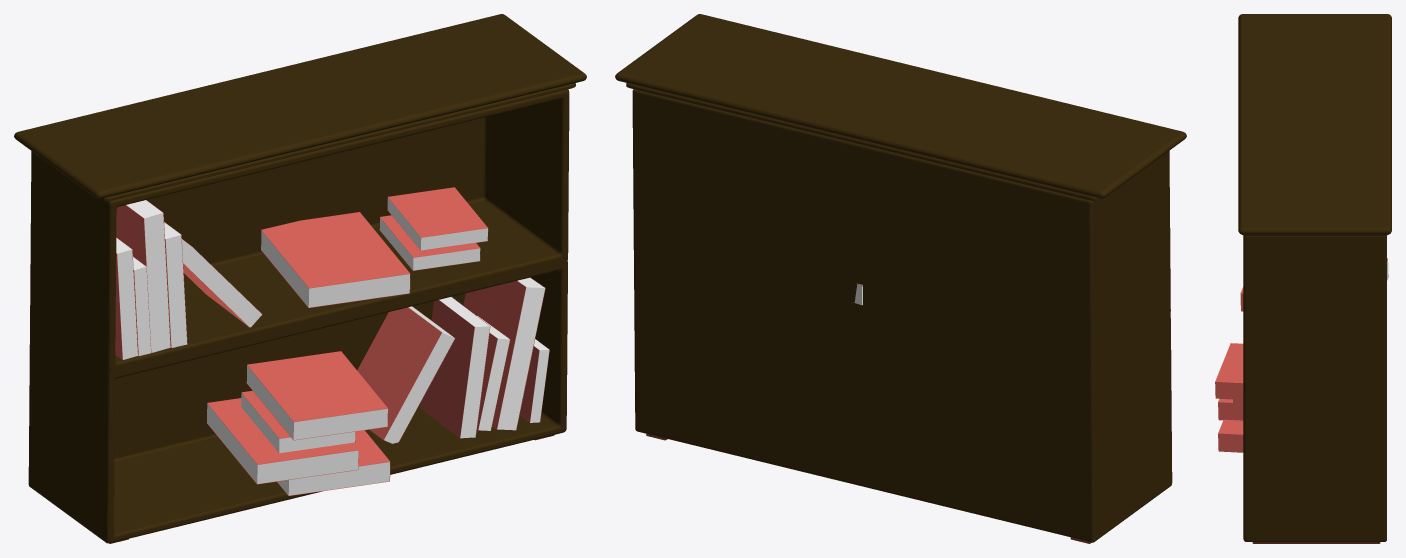
File: bookshelf_neutral.glb
The picture shows the model from 3 angles, left to right: view 1: azimuth 30°, elevation 25°; view 2: azimuth 150°, elevation 25°; view 3: azimuth 270°, elevation 25°; orthographic projection. The views are drawn at different scales.
Visible parts, largest first — view 1: bookshelf_neutral; view 2: bookshelf_neutral; view 3: bookshelf_neutral.
Part boxes in pixels (left/top/right/bottom): bookshelf_neutral: left=14, top=14, right=586, bottom=543; bookshelf_neutral: left=615, top=14, right=1186, bottom=543; bookshelf_neutral: left=1215, top=14, right=1391, bottom=543.
Bounding box in the file's own units: 2.22 × 1.56 × 0.7673.
